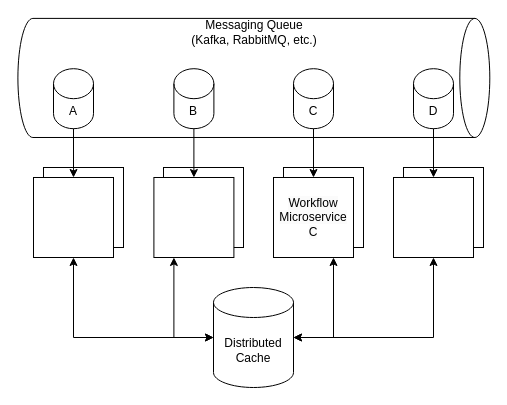
The diagram is 507 pixels wide and 405 high, and some of its shapes have lost their labels. Here are the shapes that lost their labels. From the top down, the centre of each, then its label:
At point (73, 217): "Workflow Microservice A".
At point (193, 217): "Workflow Microservice B".
At point (433, 217): "Workflow Microservice D".
